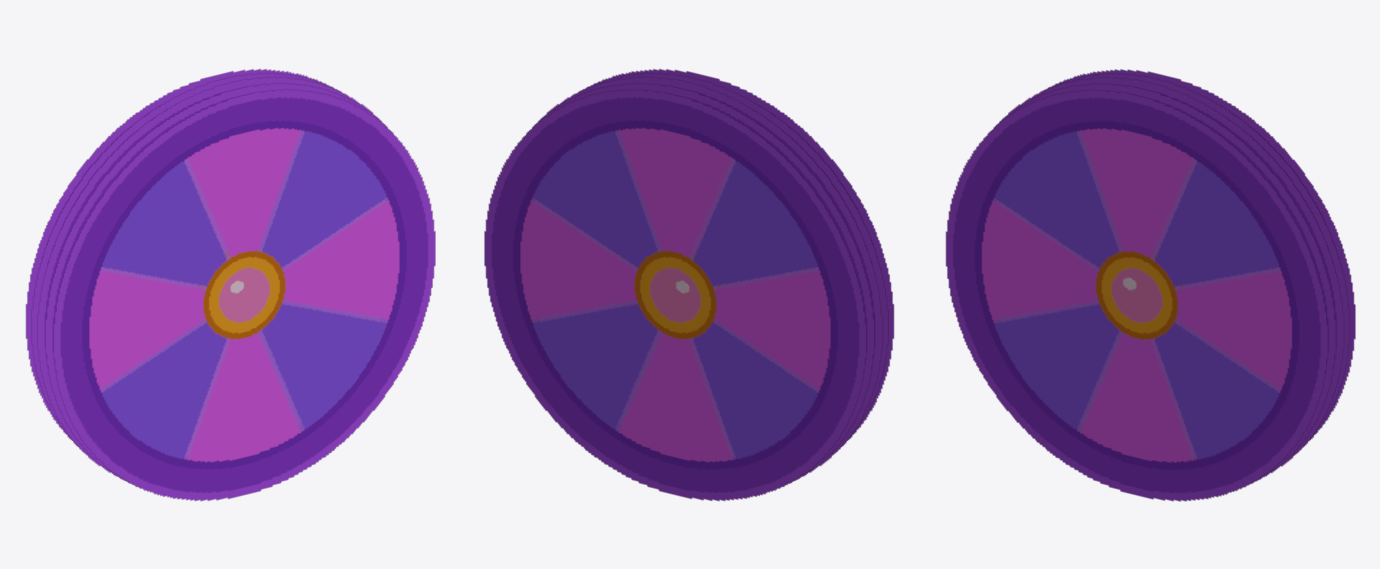
Rendered from home_spin_3d.glb.
3 views of the same model, side by side, from view 1: azimuth 30°, elevation 25°; view 2: azimuth 150°, elevation 25°; view 3: azimuth 330°, elevation 25° (orthographic).
Visible parts, largest first — view 1: Root3DMesh; view 2: Root3DMesh; view 3: Root3DMesh.
Boxes of the visible parts, x1,y1,x2,y2 form: Root3DMesh: (25, 69, 435, 501); Root3DMesh: (484, 69, 894, 501); Root3DMesh: (945, 69, 1355, 501).
Bounding box in the file's own units: 1.2 × 1.2 × 0.14.
Materials: 1 (1 with a texture image).
